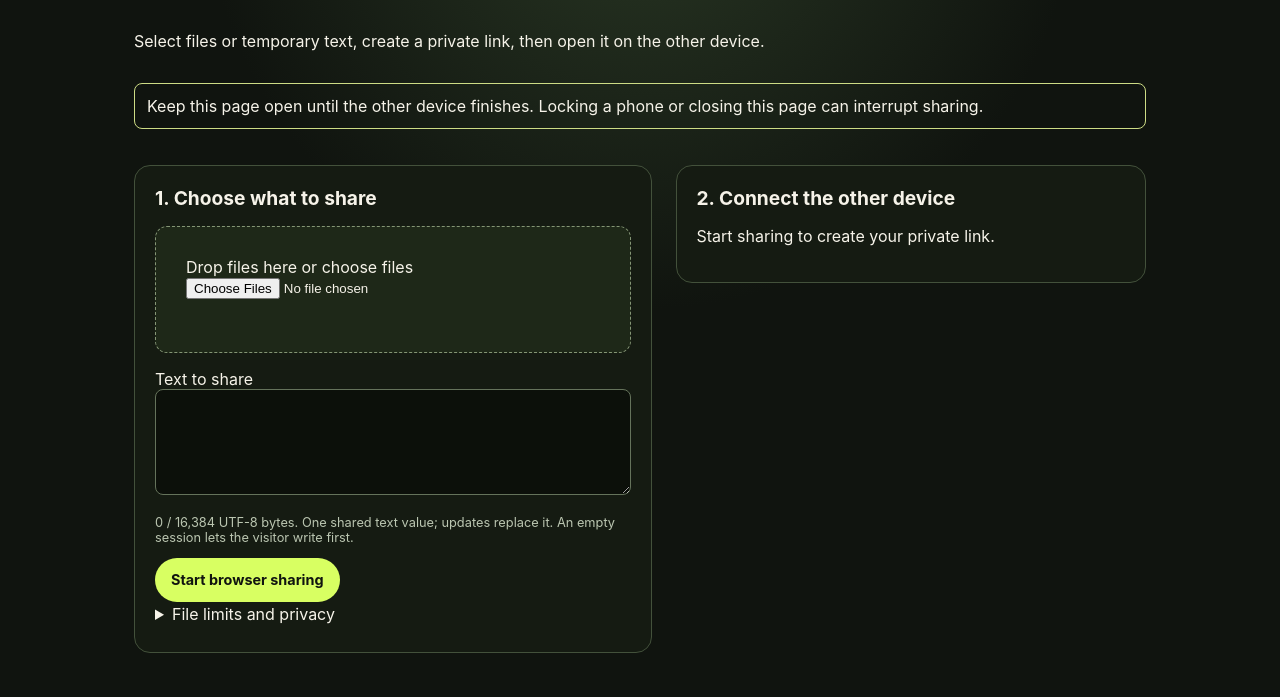
Test: retains a usable private link if local QR generation fails
The width and height of the screenshot is (1280, 697).
(page scrolled)
Click the button "Start browser sharing": x=247, y=580 [155, 558, 340, 602]
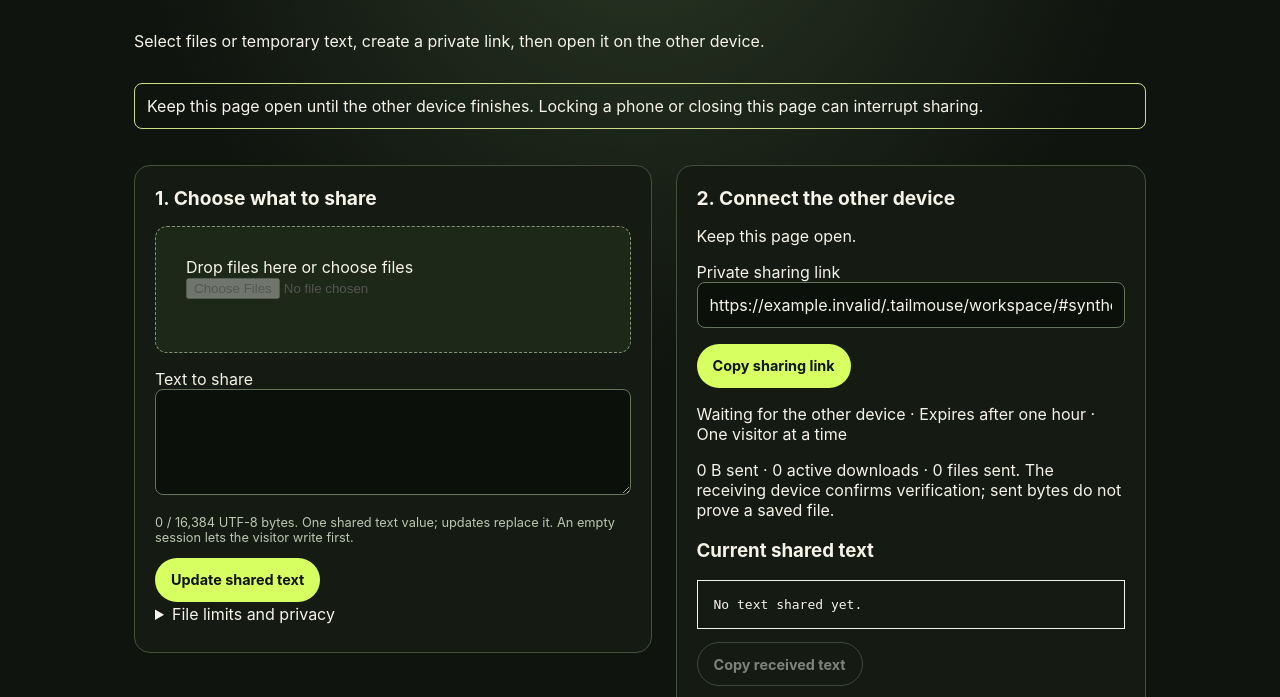
Expected: the field labelled "Private sharing link" is shown, [696, 282, 1125, 328]
